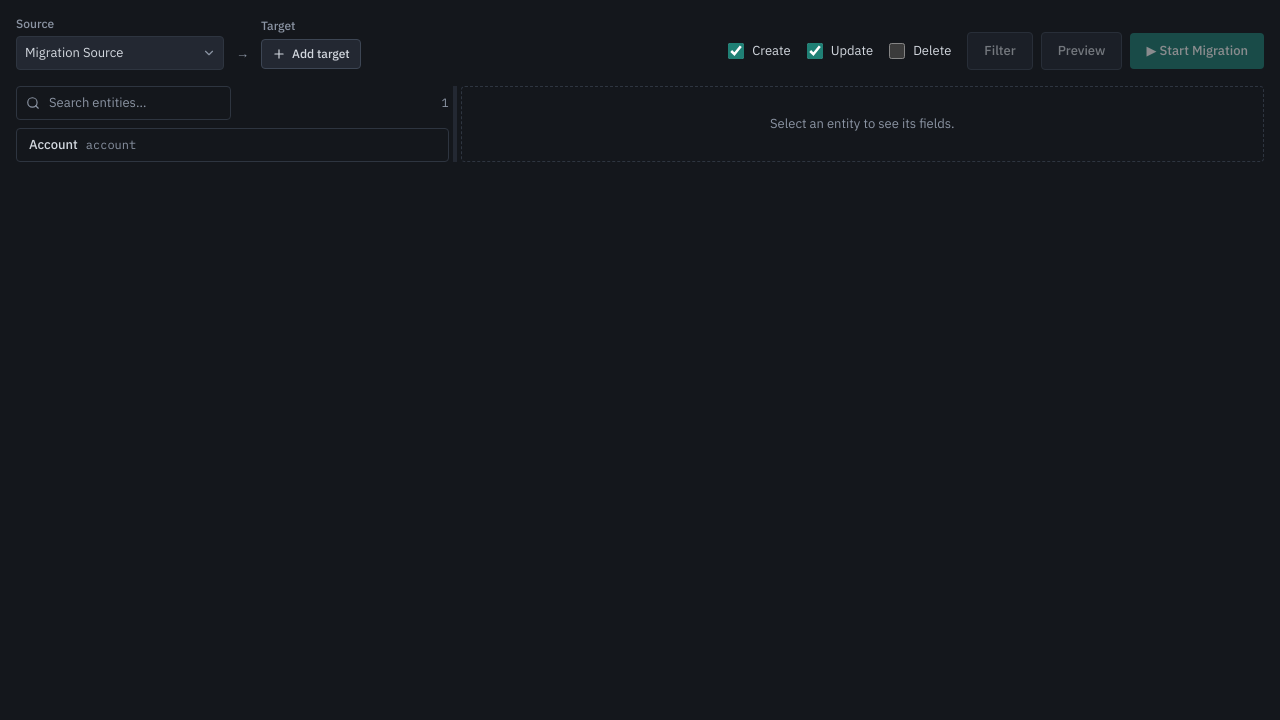
it: Data Migration › shows existing records as skipped when only Create is on
Press Enter in the button "Add target", box x1=261 y1=39 x2=361 y2=69
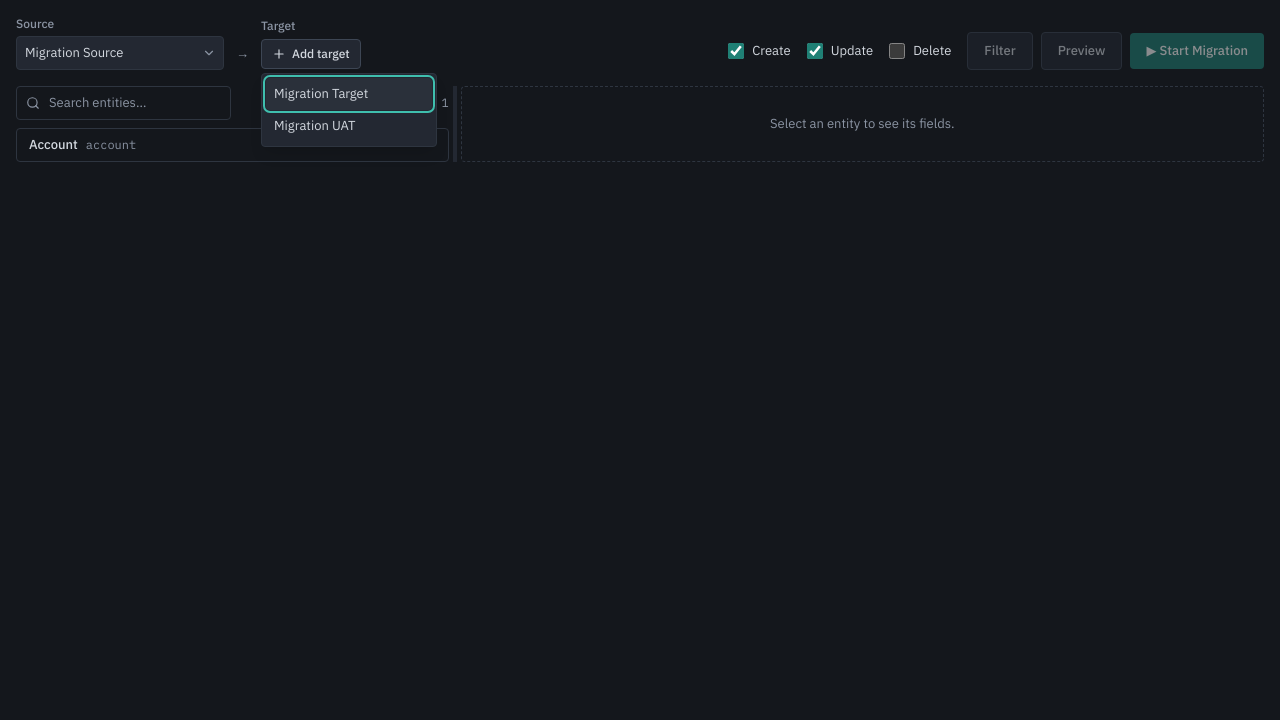
Click the menu item "Migration Target": (349, 94) x1=266 y1=78 x2=432 y2=110
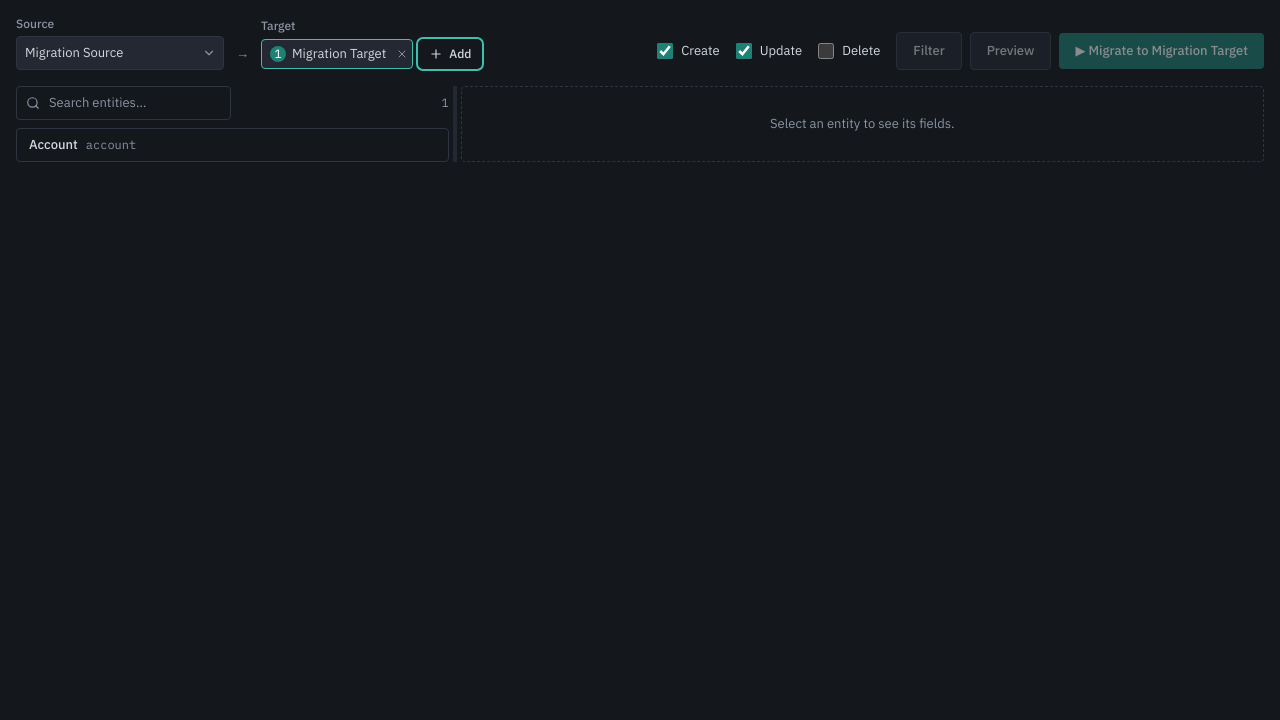
Click the 7th button: (53, 144) x1=17 y1=129 x2=448 y2=161
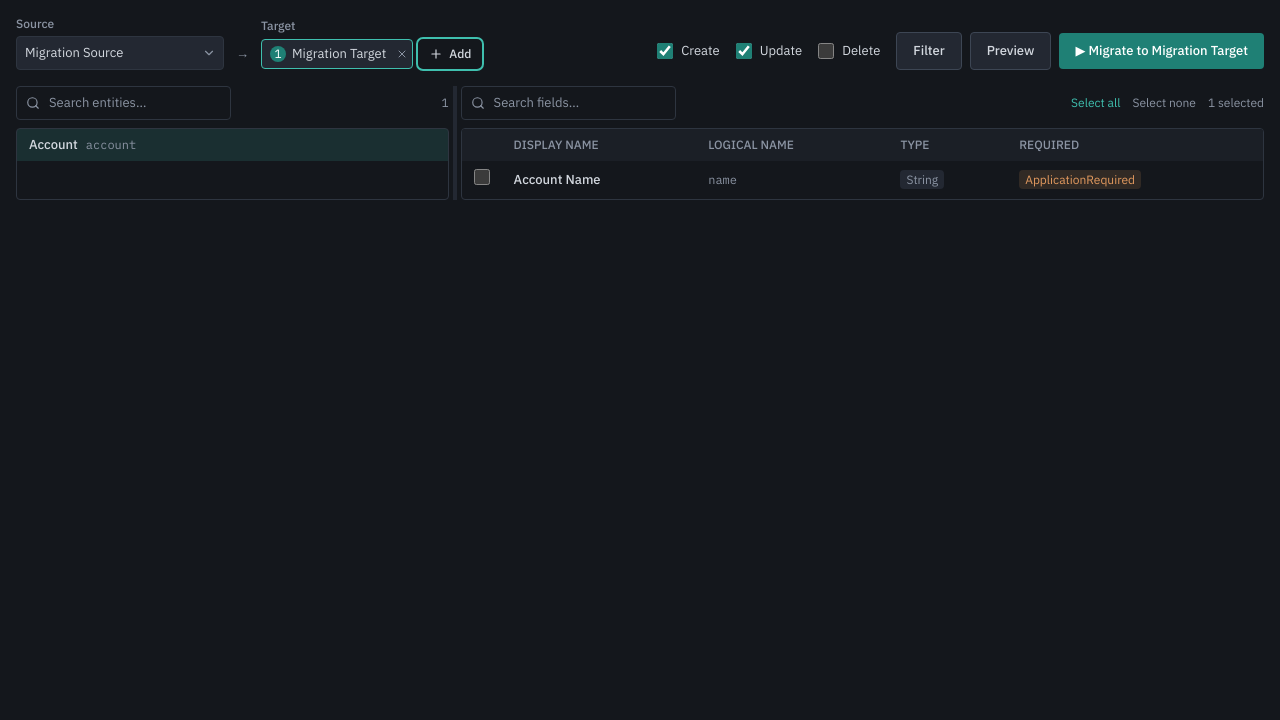
Click the text "Account Name": (599, 180) x1=502 y1=161 x2=696 y2=199
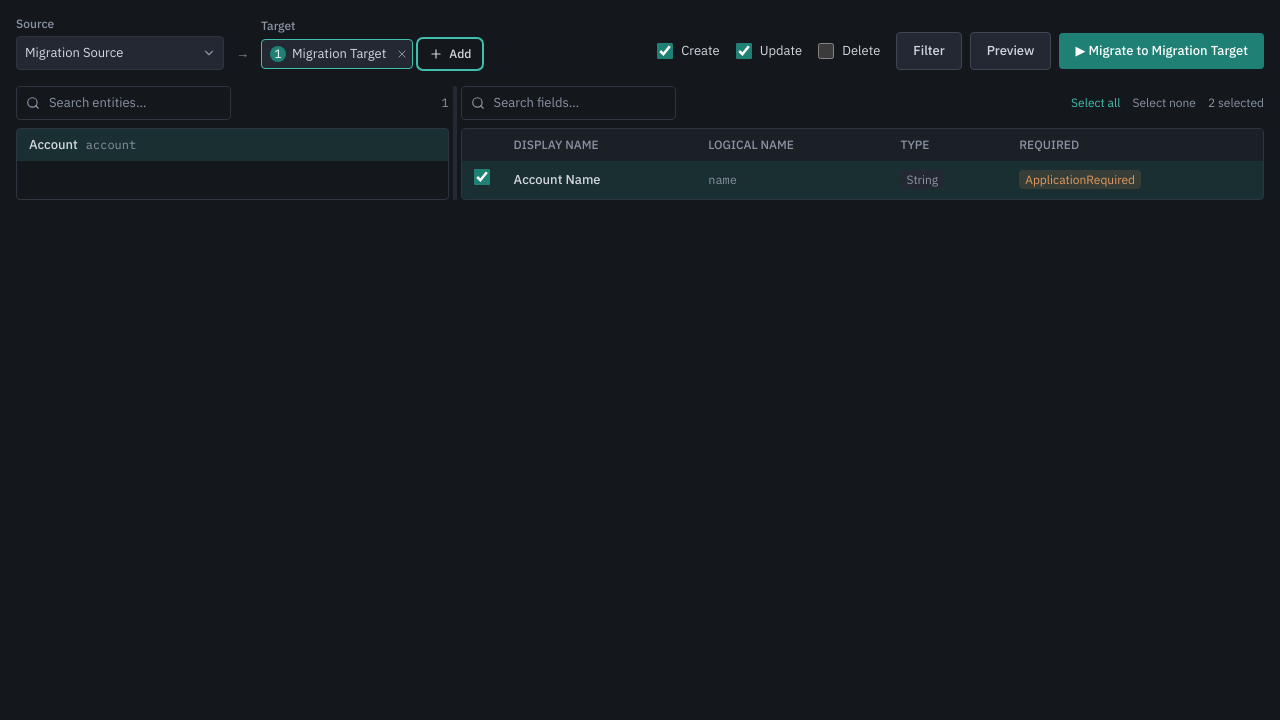
Click the checkbox labelled "Update": (744, 51) x1=736 y1=43 x2=752 y2=59
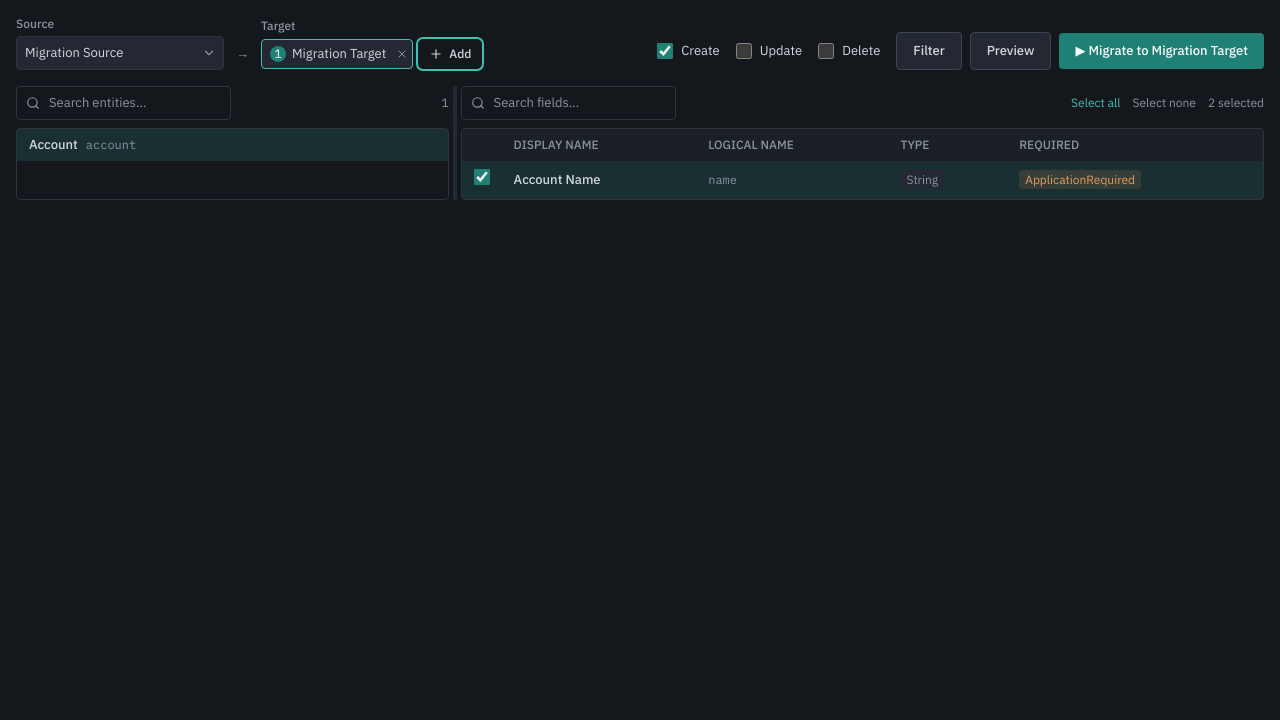
Click the button "Preview": (1011, 51) x1=970 y1=32 x2=1051 y2=70
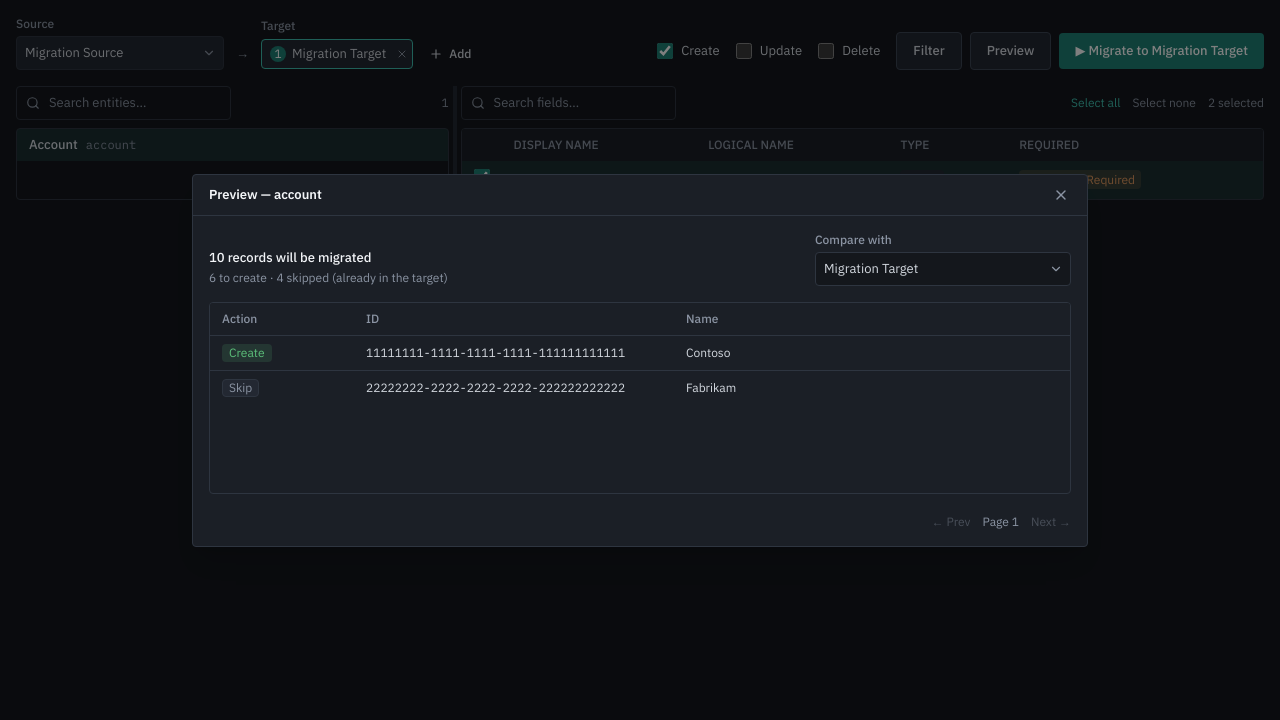
Expected: the text "Skip" is shown, x1=222 y1=378 x2=259 y2=396
Expected: the text "Create" is shown, x1=222 y1=344 x2=272 y2=362
Expected: the text "6 to create · 4 skipped (already in the target)" is shown, x1=209 y1=270 x2=448 y2=286
